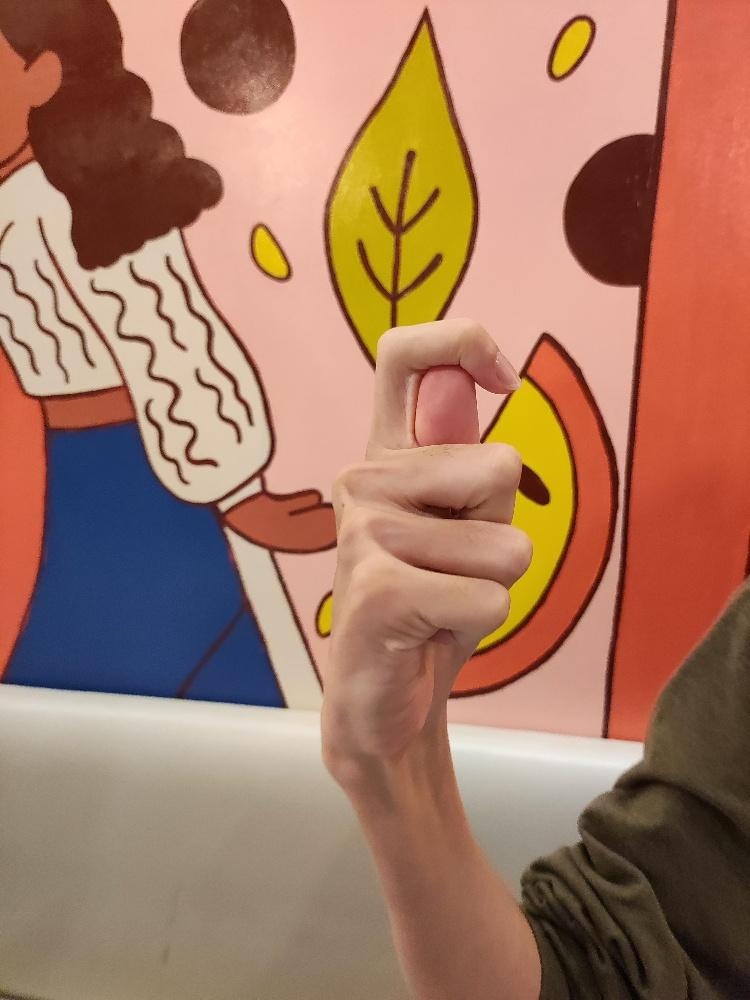t: (317, 313, 535, 765)
